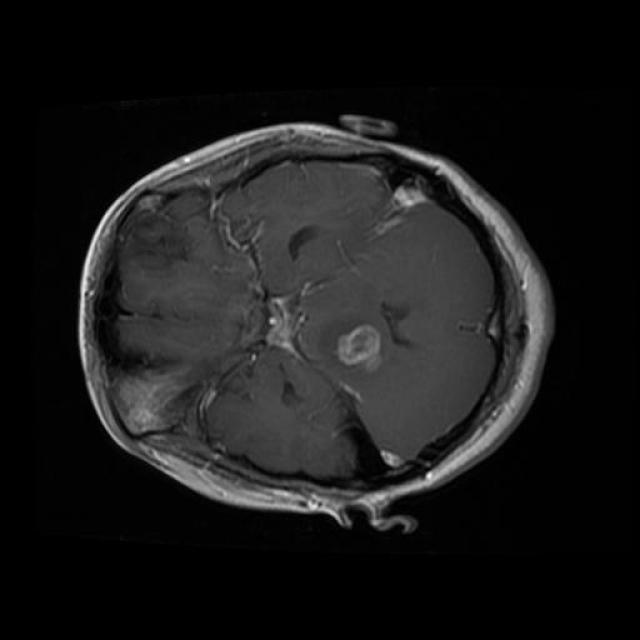Glioma: (111, 351, 194, 435), (335, 325, 381, 373)
